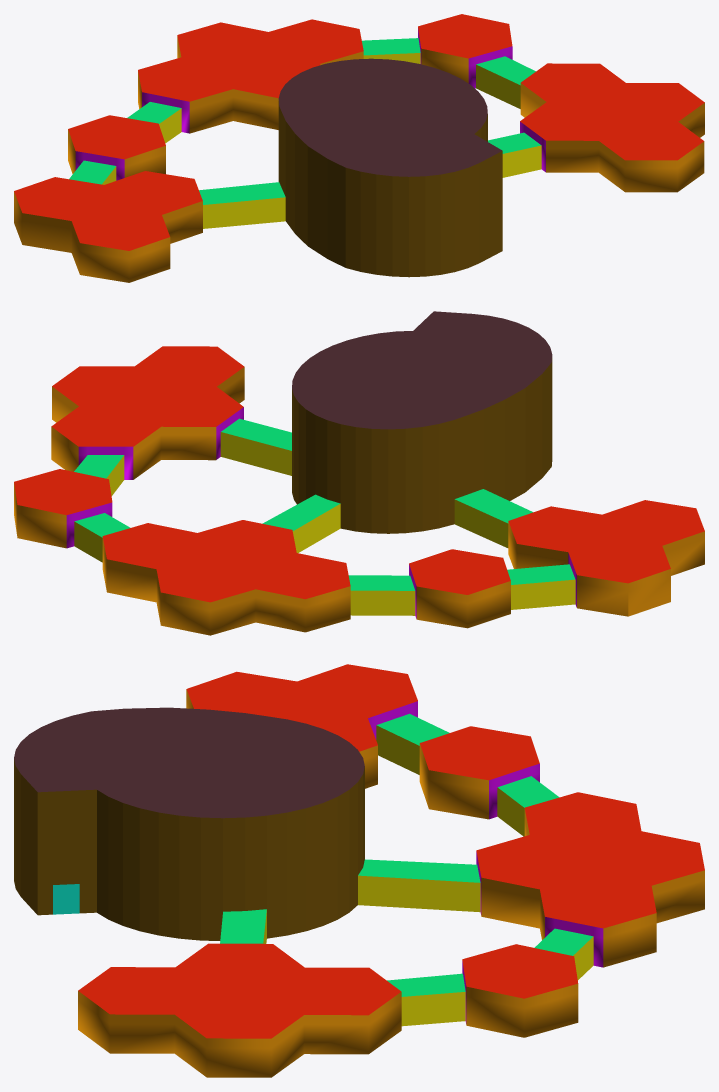
The model's file is CompleteMuseumReferenceWithoutElevator.fbx.
3 renders of one model, top to bottom at view 1: azimuth 30°, elevation 25°; view 2: azimuth 150°, elevation 25°; view 3: azimuth 270°, elevation 25°, orthographic. The views are drawn at different scales.
Visible parts, largest first — view 1: Museum_complete_Blockout:Lobby, Museum_complete_Blockout:Japanese_room, Museum_complete_Blockout:FashionRoom, Museum_complete_Blockout:Fantasy_Forest4, Museum_complete_Blockout:neutral_room1, Museum_complete_Blockout:neutral_room_2, Museum_complete_Blockout:Corridor3, Museum_complete_Blockout:Corridor2, Museum_complete_Blockout:Corridor1, Museum_complete_Blockout:Corridor; view 2: Museum_complete_Blockout:Lobby, Museum_complete_Blockout:Fantasy_Forest4, Museum_complete_Blockout:Japanese_room, Museum_complete_Blockout:FashionRoom, Museum_complete_Blockout:neutral_room1, Museum_complete_Blockout:neutral_room_2, Museum_complete_Blockout:Corridor1, Museum_complete_Blockout:Corridor, Museum_complete_Blockout:Corridor2, Museum_complete_Blockout:Corridor3; view 3: Museum_complete_Blockout:Lobby, Museum_complete_Blockout:Japanese_room, Museum_complete_Blockout:Fantasy_Forest4, Museum_complete_Blockout:FashionRoom, Museum_complete_Blockout:neutral_room_2, Museum_complete_Blockout:neutral_room1, Museum_complete_Blockout:Corridor3, Museum_complete_Blockout:Corridor, Museum_complete_Blockout:Corridor1, Museum_complete_Blockout:Corridor2.
Part boxes in pixels (<box>): Museum_complete_Blockout:Lobby: <box>199,58,541,277</box>; Museum_complete_Blockout:Japanese_room: <box>520,63,704,192</box>; Museum_complete_Blockout:FashionRoom: <box>14,171,202,282</box>; Museum_complete_Blockout:Fantasy_Forest4: <box>138,19,363,133</box>; Museum_complete_Blockout:neutral_room1: <box>68,115,165,180</box>; Museum_complete_Blockout:neutral_room_2: <box>418,14,512,88</box>; Museum_complete_Blockout:Corridor3: <box>476,56,535,108</box>; Museum_complete_Blockout:Corridor2: <box>362,38,420,63</box>; Museum_complete_Blockout:Corridor1: <box>127,102,181,143</box>; Museum_complete_Blockout:Corridor: <box>69,160,116,184</box>; Museum_complete_Blockout:Lobby: <box>220,311,552,552</box>; Museum_complete_Blockout:Fantasy_Forest4: <box>102,520,350,635</box>; Museum_complete_Blockout:Japanese_room: <box>51,346,244,479</box>; Museum_complete_Blockout:FashionRoom: <box>508,500,704,616</box>; Museum_complete_Blockout:neutral_room1: <box>409,549,510,628</box>; Museum_complete_Blockout:neutral_room_2: <box>14,469,112,548</box>; Museum_complete_Blockout:Corridor1: <box>348,575,415,615</box>; Museum_complete_Blockout:Corridor: <box>507,564,575,609</box>; Museum_complete_Blockout:Corridor2: <box>74,513,130,562</box>; Museum_complete_Blockout:Corridor3: <box>74,455,124,495</box>; Museum_complete_Blockout:Lobby: <box>14,707,480,943</box>; Museum_complete_Blockout:Japanese_room: <box>78,943,401,1077</box>; Museum_complete_Blockout:Fantasy_Forest4: <box>476,792,704,967</box>; Museum_complete_Blockout:FashionRoom: <box>186,664,417,788</box>; Museum_complete_Blockout:neutral_room_2: <box>462,944,578,1037</box>; Museum_complete_Blockout:neutral_room1: <box>419,726,539,819</box>; Museum_complete_Blockout:Corridor3: <box>387,973,465,1026</box>; Museum_complete_Blockout:Corridor: <box>376,713,449,774</box>; Museum_complete_Blockout:Corridor1: <box>497,776,559,836</box>; Museum_complete_Blockout:Corridor2: <box>534,928,593,980</box>.
Bounding box in the file's own units: 28163 × 4316 × 21968.
